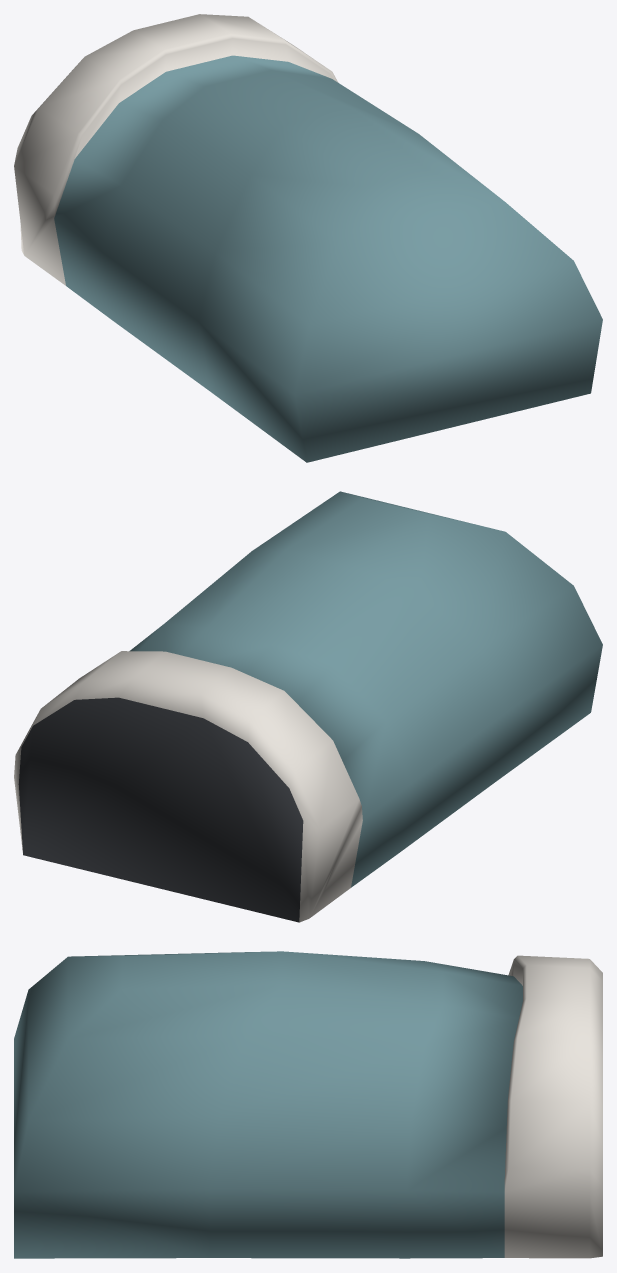
The model's file is g_o_BedSheet.fbx.
The picture shows the model from 3 angles, top to bottom: view 1: azimuth 30°, elevation 25°; view 2: azimuth 150°, elevation 25°; view 3: azimuth 270°, elevation 25°; orthographic projection. The views are drawn at different scales.
Visible parts, largest first — view 1: g_o_BedSheet; view 2: g_o_BedSheet; view 3: g_o_BedSheet.
Part boxes in pixels (x1,y1,x2,y2): g_o_BedSheet: (14, 14, 602, 462); g_o_BedSheet: (14, 491, 602, 922); g_o_BedSheet: (14, 951, 602, 1258).
Bounding box in the file's own units: 0.9852 × 0.6594 × 1.6.
